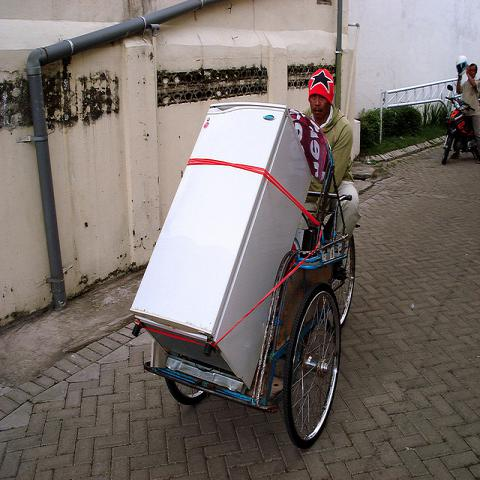motorcycle: (441, 84, 479, 167)
